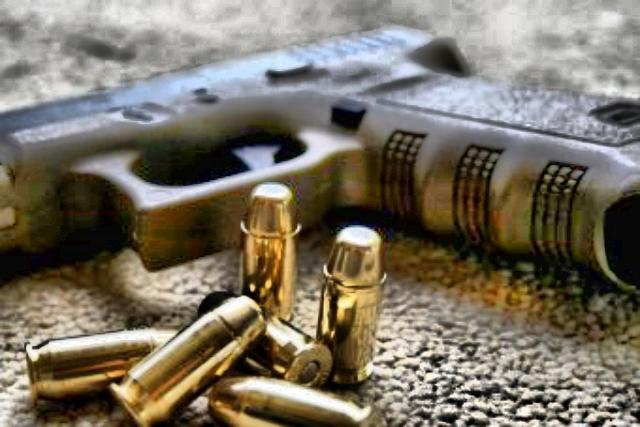pistol: (0, 28, 632, 314)
